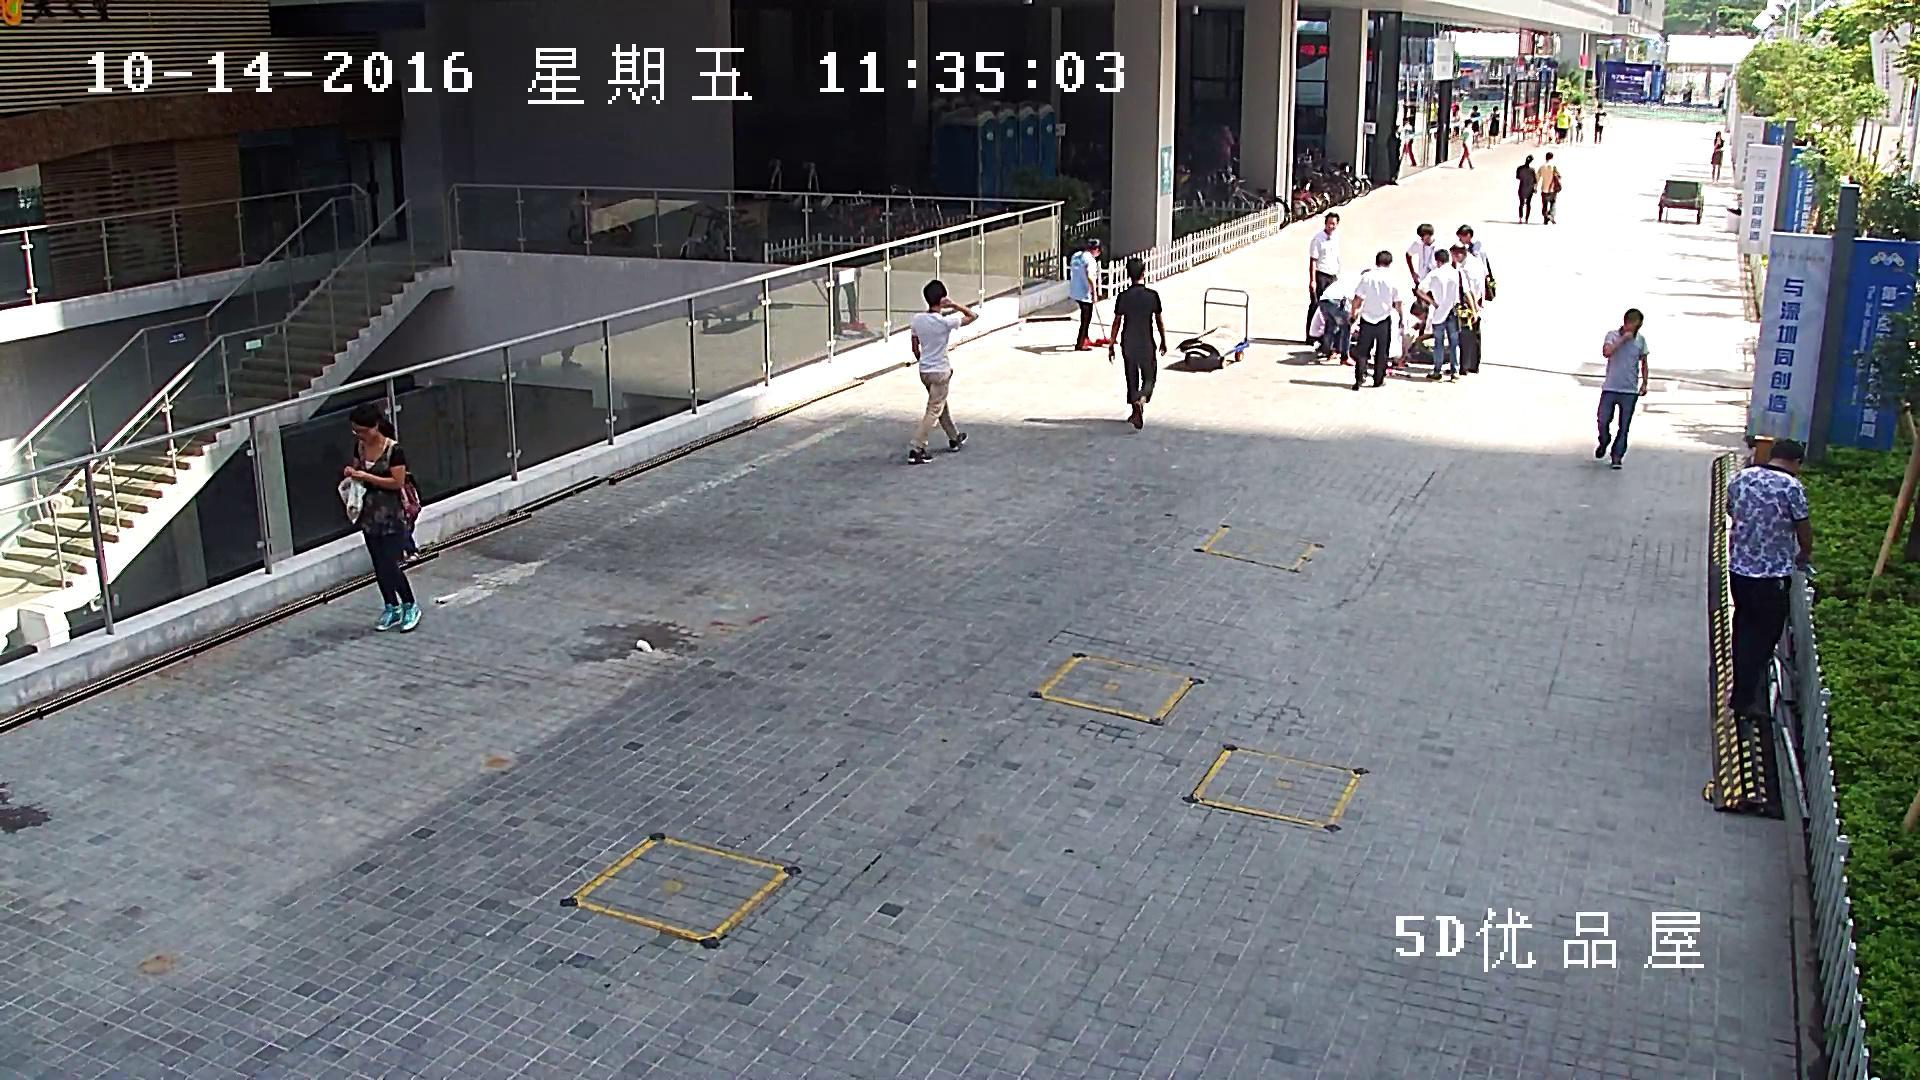person: (1726, 437, 1814, 720), (334, 403, 422, 634), (905, 279, 979, 465), (1107, 256, 1166, 430), (1593, 307, 1649, 473), (1414, 249, 1476, 383), (1350, 250, 1404, 390), (1307, 269, 1368, 366), (1068, 235, 1114, 351), (1449, 241, 1484, 374), (1305, 211, 1338, 346), (1069, 235, 1102, 352), (1350, 298, 1405, 369), (827, 260, 866, 339), (1456, 224, 1495, 302), (1406, 223, 1439, 294), (1406, 297, 1438, 362), (829, 262, 857, 337), (1535, 151, 1562, 226), (1515, 153, 1536, 223), (1410, 298, 1437, 349), (1385, 124, 1402, 185), (1213, 123, 1236, 167), (1457, 118, 1474, 169), (1402, 119, 1416, 167), (1710, 131, 1724, 180), (1556, 102, 1571, 144), (1487, 106, 1500, 150), (1593, 102, 1606, 143), (1470, 105, 1481, 147), (1429, 96, 1438, 138), (1574, 106, 1584, 141), (1451, 94, 1459, 120)
